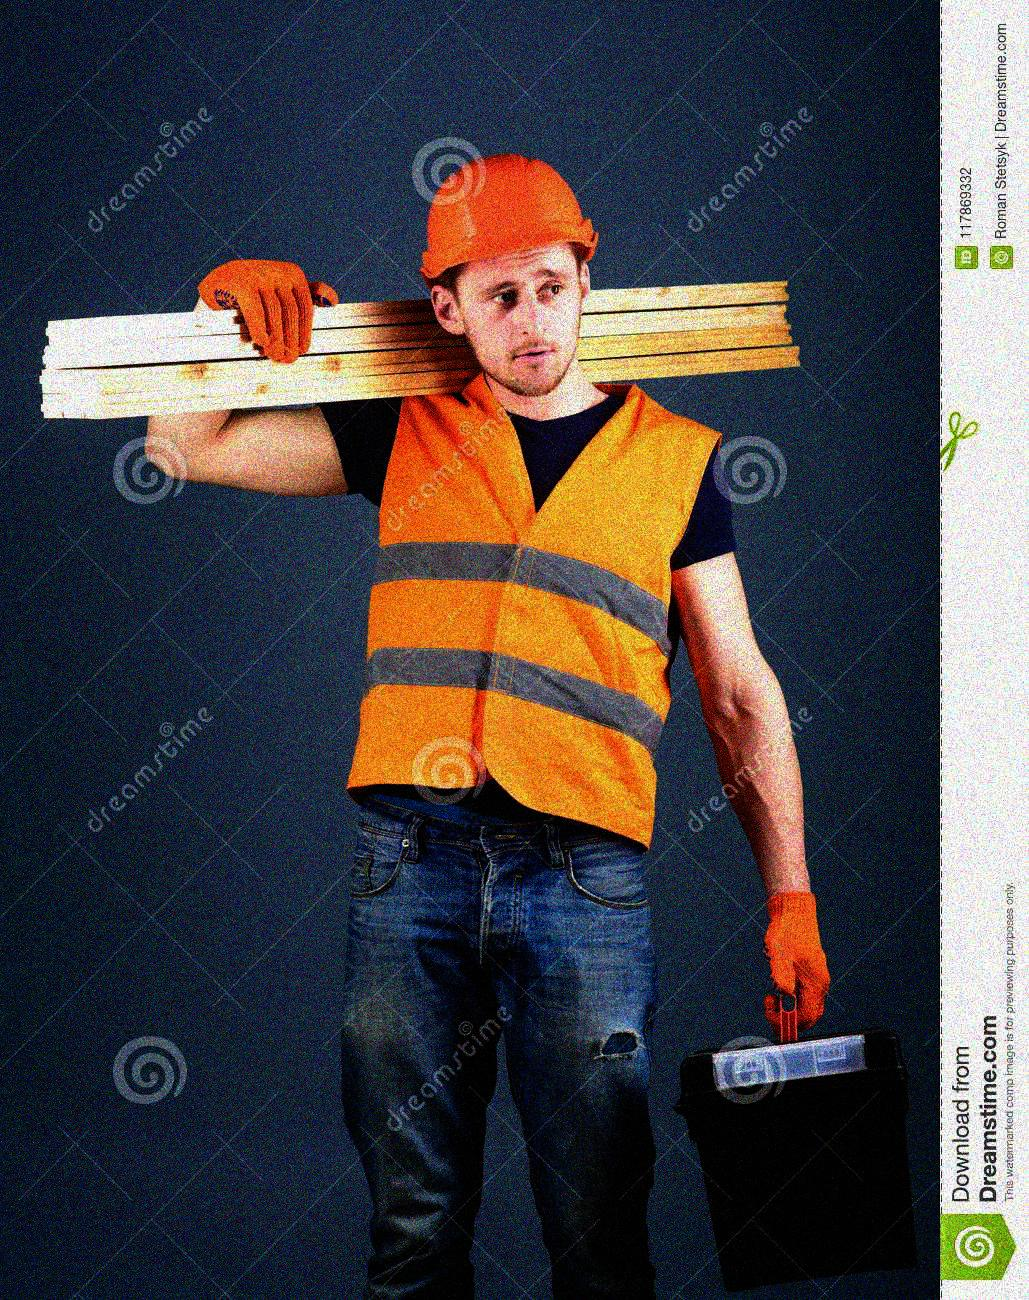helmet: (413, 148, 602, 404)
